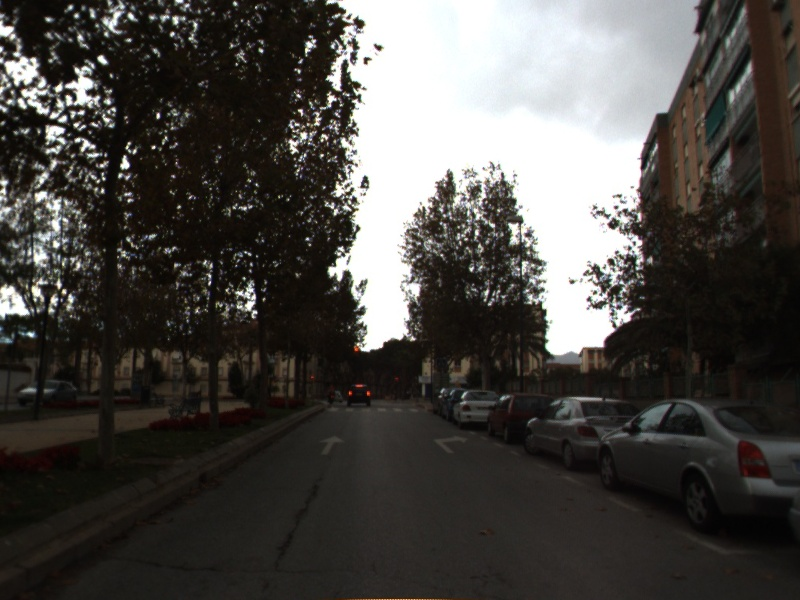RIGHT: (431, 433, 471, 456)
STRAIGHT: (317, 433, 348, 457)
